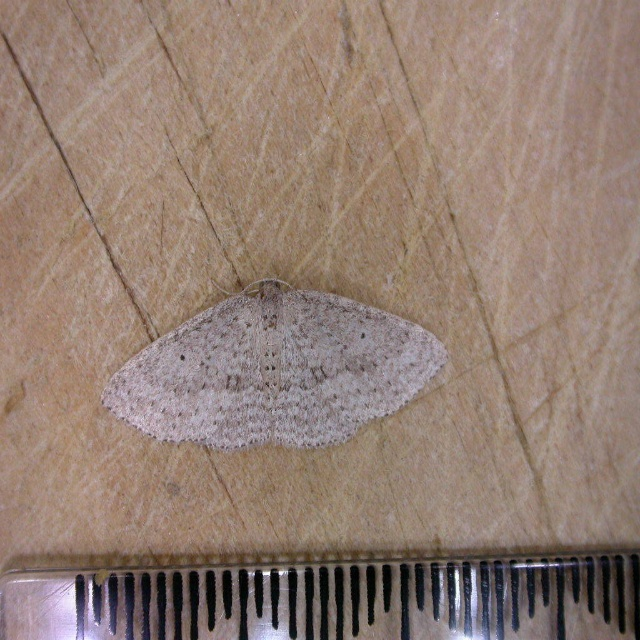Moths and butterflies: (97, 274, 449, 452)
